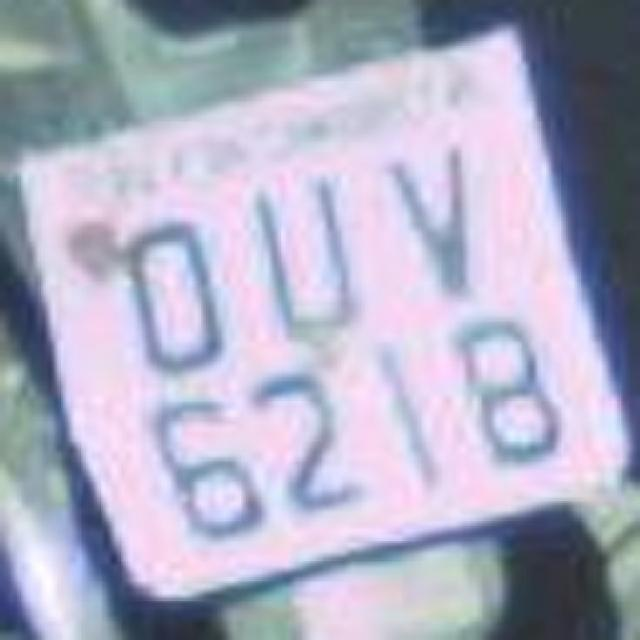1: (352, 316, 460, 516)
2: (220, 340, 392, 532)
6: (120, 351, 288, 564)
8: (444, 284, 584, 491)
O: (108, 196, 240, 376)
U: (236, 160, 376, 355)
